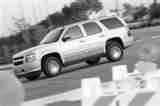car: (12, 16, 134, 82)
